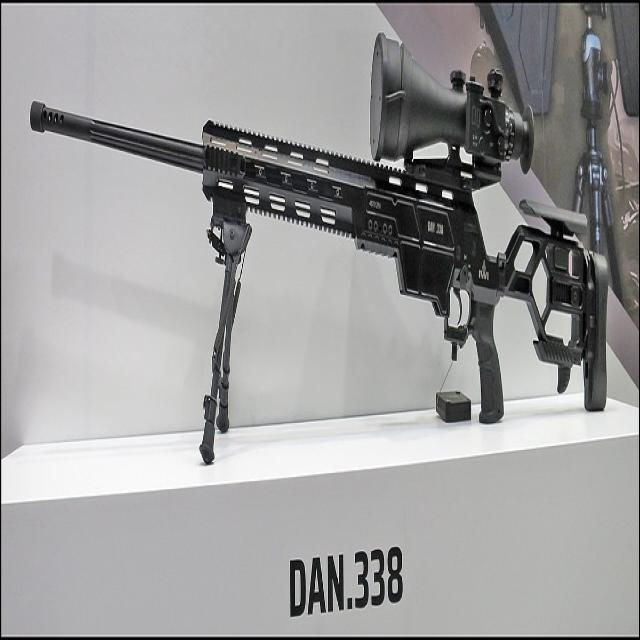rifle: (20, 51, 619, 460)
